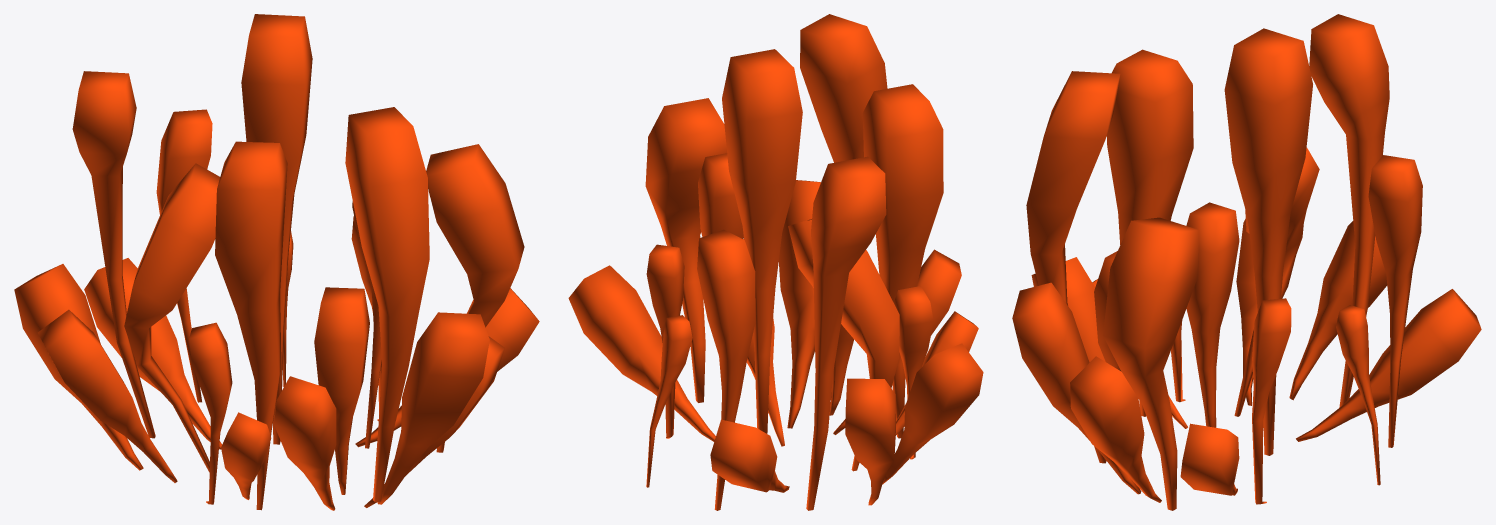
Rendered from coral.glb.
The picture shows the model from 3 angles, left to right: view 1: azimuth 30°, elevation 25°; view 2: azimuth 150°, elevation 25°; view 3: azimuth 270°, elevation 25°; orthographic projection. The views are drawn at different scales.
Parts seen in each view (by area): view 1: node_id36; view 2: node_id36; view 3: node_id36.
Boxes of the visible parts, x1,y1,x2,y2 form: node_id36: (14,14,539,510); node_id36: (568,14,983,510); node_id36: (1012,14,1481,510).
Size of the model in its own units: 0.2042 by 0.1917 by 0.184.
1 material, 1 textured.
